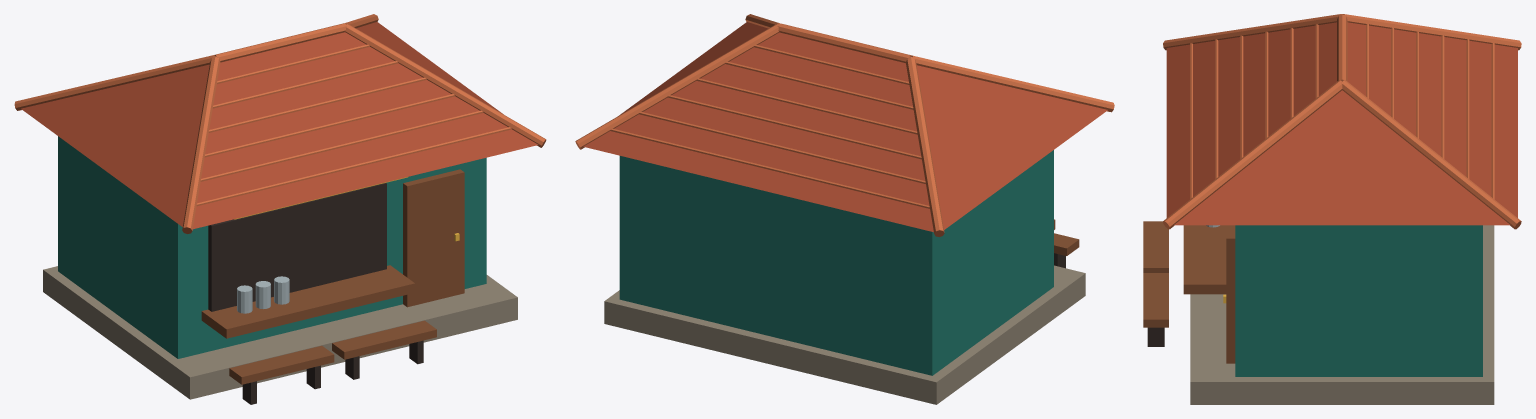
Rendered from Chayakada.glb.
3 views of the same model, side by side, from view 1: azimuth 30°, elevation 25°; view 2: azimuth 150°, elevation 25°; view 3: azimuth 270°, elevation 25° (orthographic). The views are drawn at different scales.
Visible parts, largest first — view 1: Chayakada; view 2: Chayakada; view 3: Chayakada.
Boxes of the visible parts, left/top/right/bottom form: Chayakada: left=14, top=14, right=546, bottom=404; Chayakada: left=575, top=14, right=1114, bottom=404; Chayakada: left=1143, top=14, right=1521, bottom=404.
Bounding box in the file's own units: 6.48 × 4.54 × 5.65.
